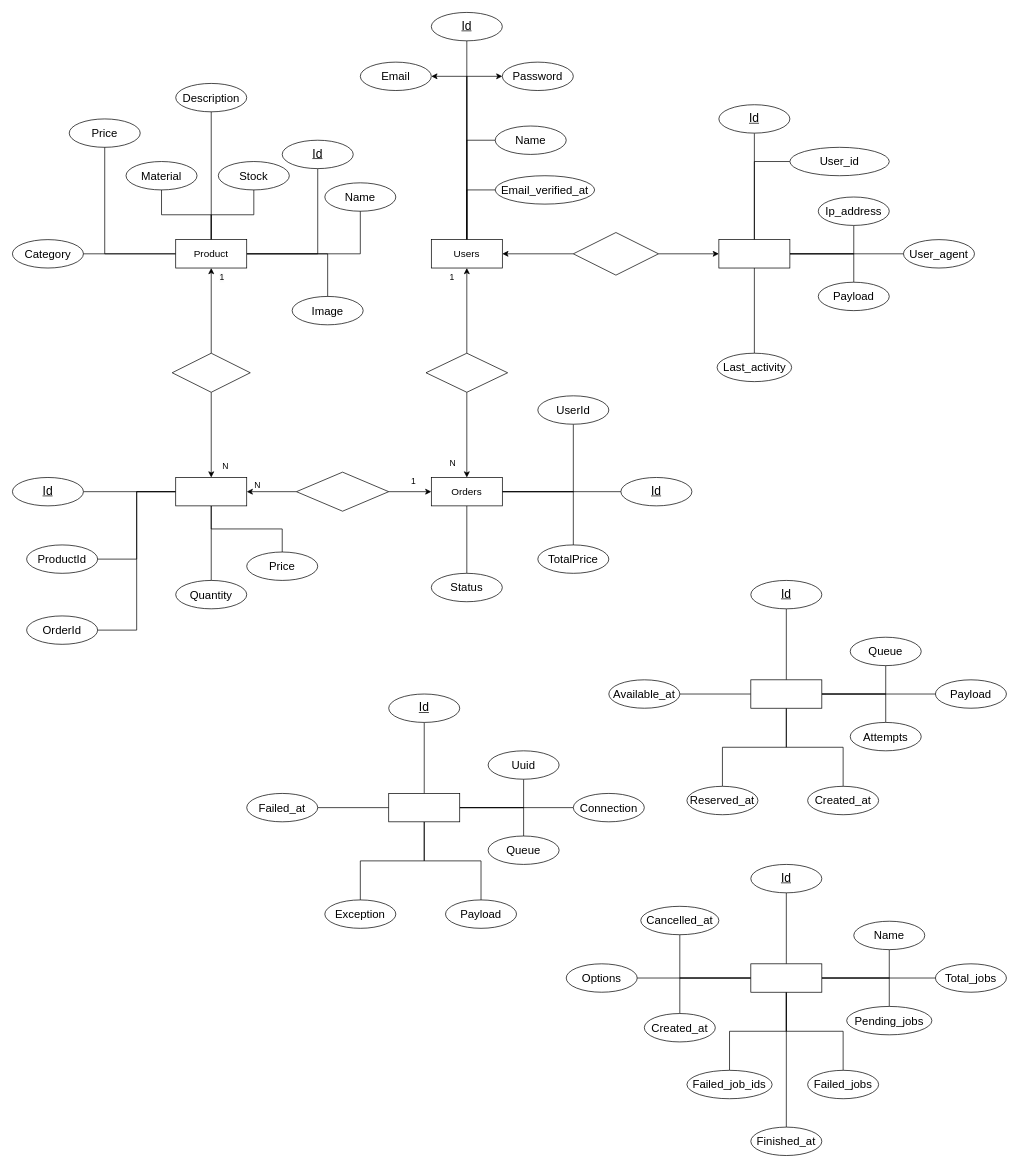
Some shapes in this 1019 by 1168 pixel diagram are drawn without their labels. The centre of each missing label's shape, as x and y in pixels:
Failed_jobs: point 424,807
Job_Batches: point 786,977
Jobs: point 786,693
Ordered:items: point 342,491
Ordering: point 210,372
OrderItems: point 211,491
Sessions: point 754,253
User-Orders: point 466,372
User-Session: point 616,253
